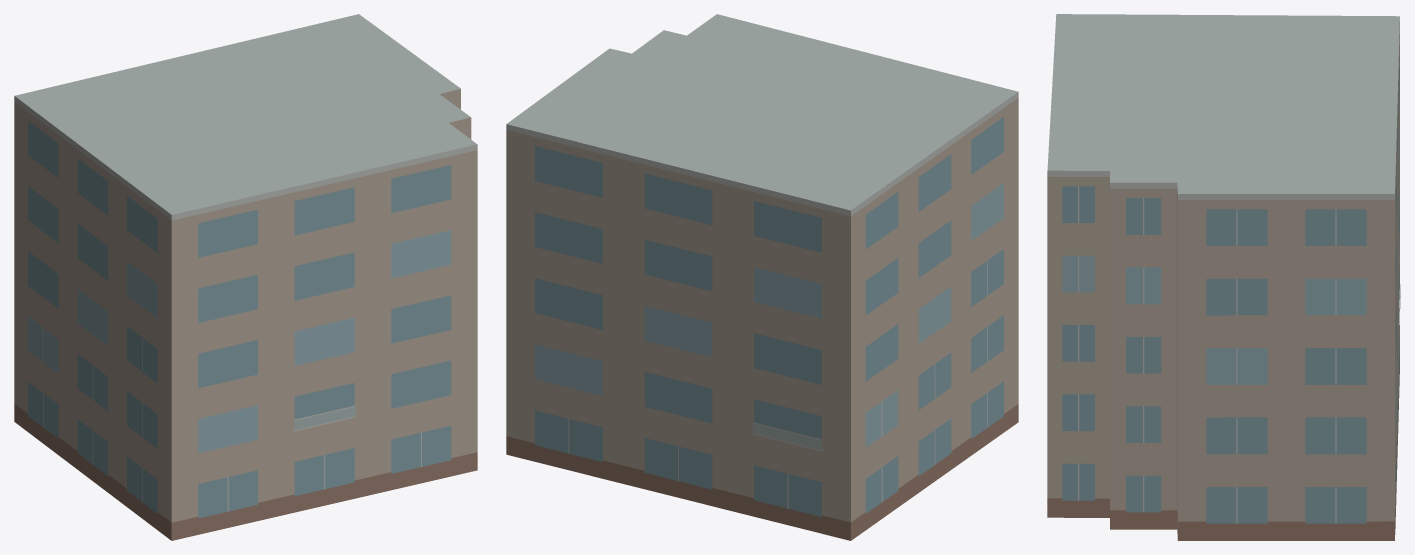
The model's file is survey-upis-32816855.glb.
The picture shows the model from 3 angles, left to right: view 1: azimuth 30°, elevation 25°; view 2: azimuth 150°, elevation 25°; view 3: azimuth 270°, elevation 25°; orthographic projection. The views are drawn at different scales.
Parts seen in each view (by area): view 1: survey-upis-32816855.tmp; view 2: survey-upis-32816855.tmp; view 3: survey-upis-32816855.tmp.
Boxes of the visible parts, x1,y1,x2,y2 form: survey-upis-32816855.tmp: (14,14,477,540); survey-upis-32816855.tmp: (506,14,1018,540); survey-upis-32816855.tmp: (1047,14,1400,540).
Bounding box in the file's own units: 15.47 × 13.9 × 12.83.
